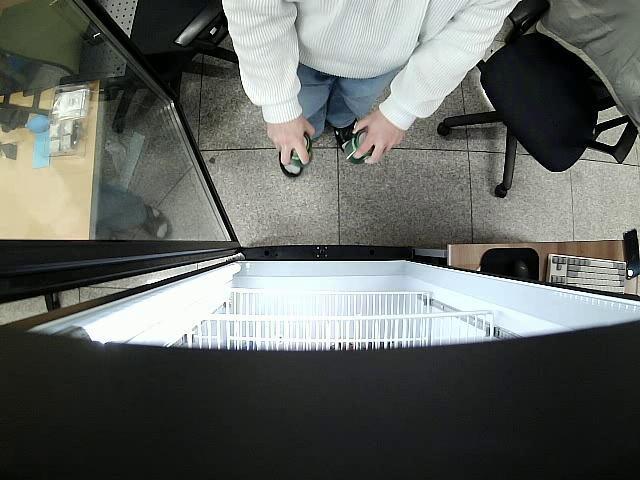12_chilsungCider: (344, 131, 372, 164), (292, 132, 312, 166)
